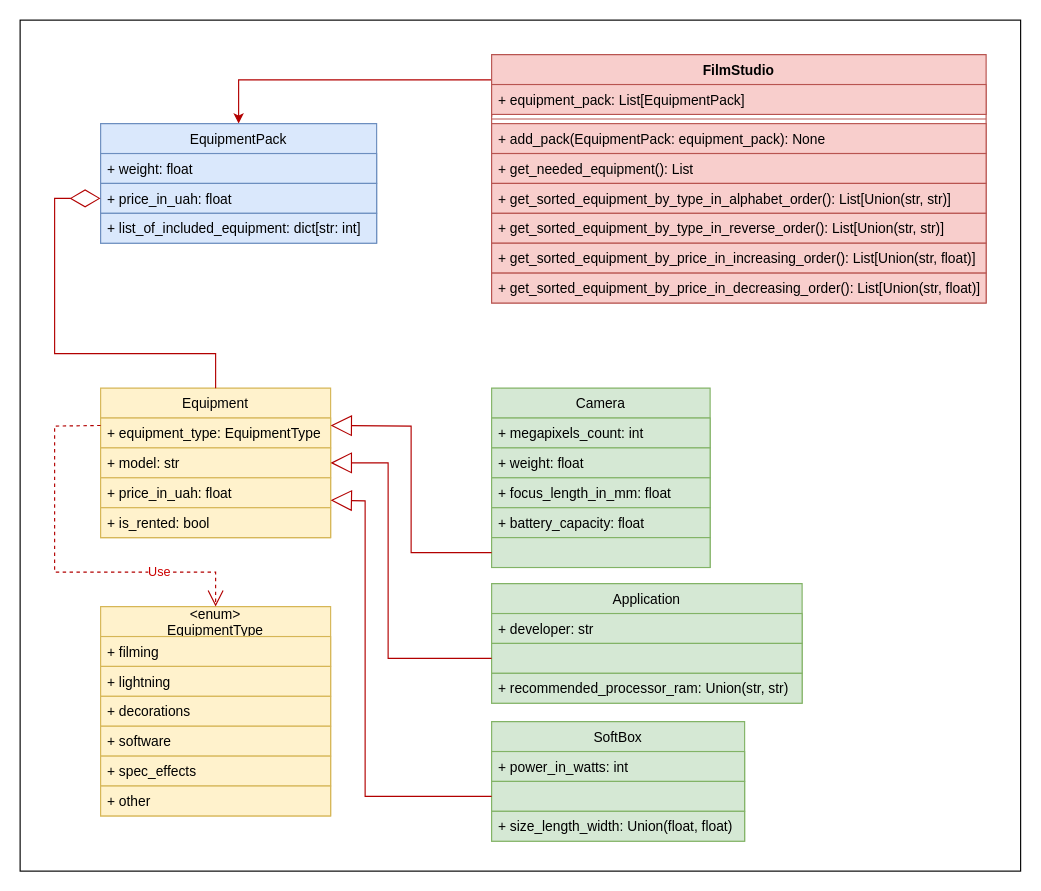
The diagram is 1041 pixels wide and 891 high, and some of its shapes have lost their labels. Each missing label, with the centre of its shape:
"+ color_in_kelvins: int" goes at (617,795).
"+ size_in_gb: float" goes at (646,657).
"+ stabilisation: bool" goes at (600,552).
